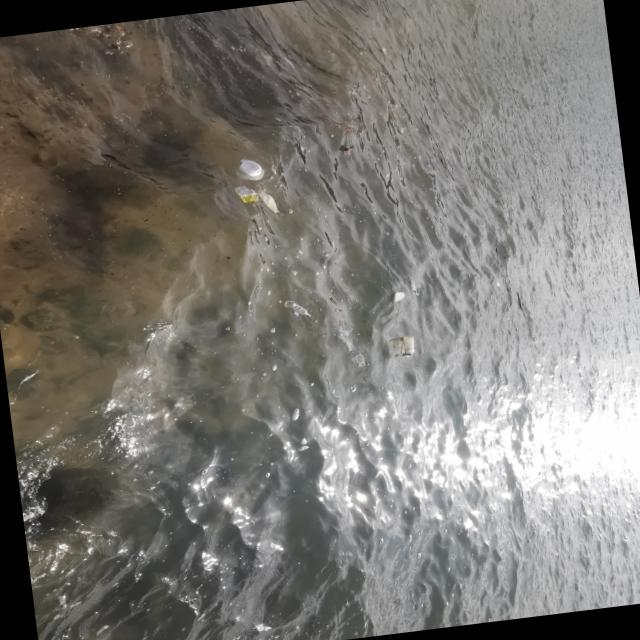foam: (233, 156, 266, 183), (390, 292, 407, 304)
plastic bottle: (284, 299, 312, 321), (402, 336, 415, 357)
